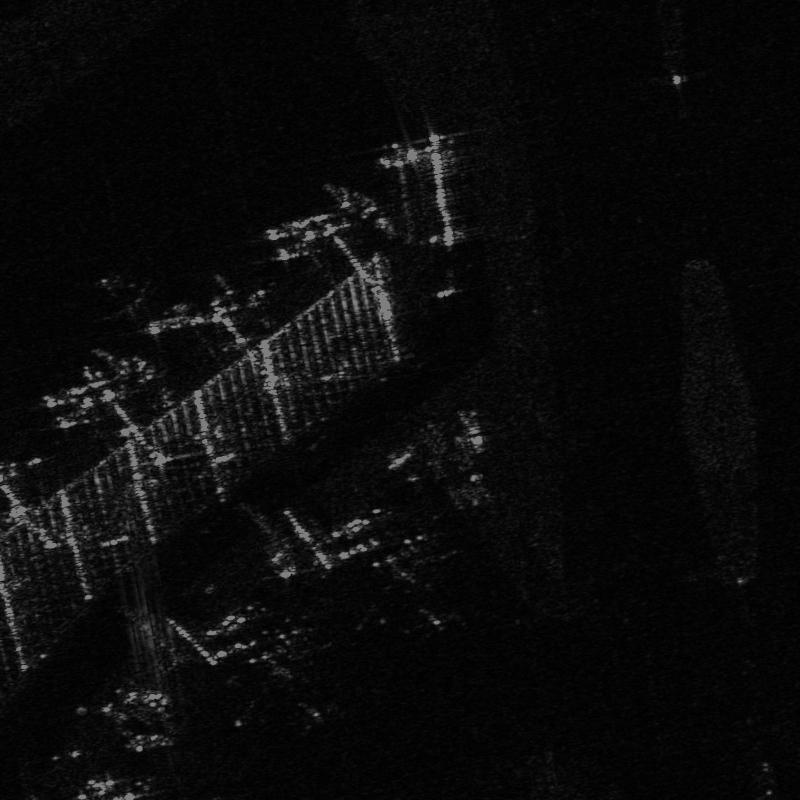Boeing787: (234, 633, 343, 725), (92, 273, 152, 324)
other: (357, 538, 465, 635)
